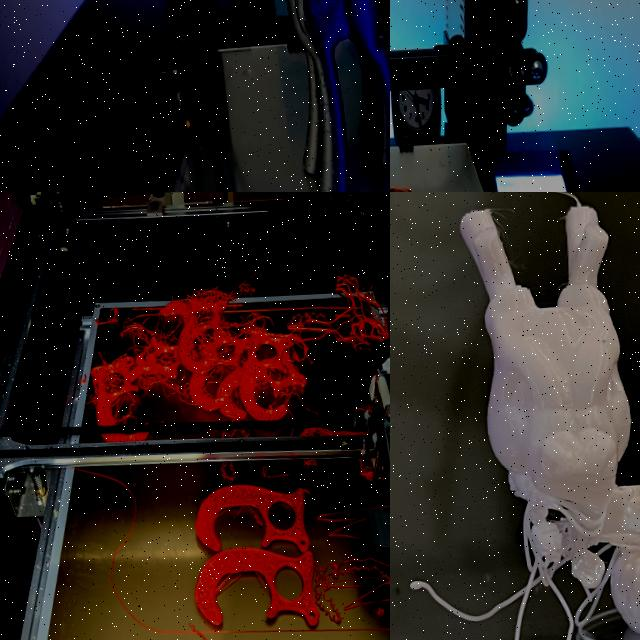spaghetti: (69, 237, 390, 444), (410, 506, 616, 640), (311, 537, 390, 640)
